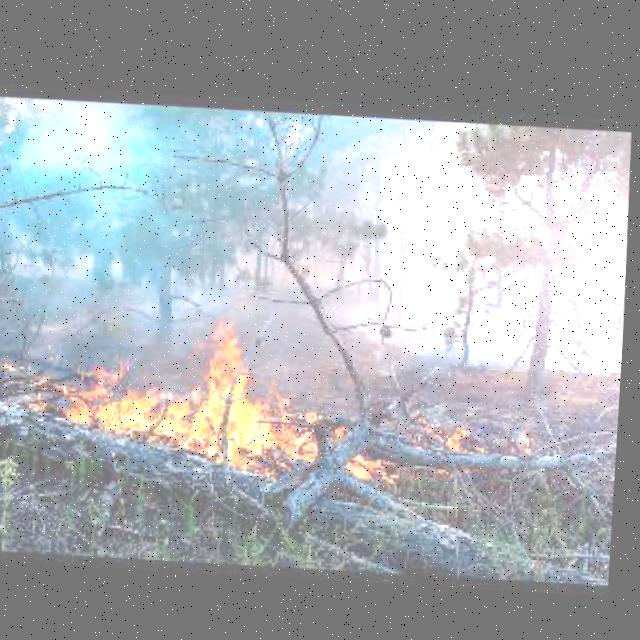Fire: (0, 281, 582, 522)
Smoke: (0, 86, 437, 310)
